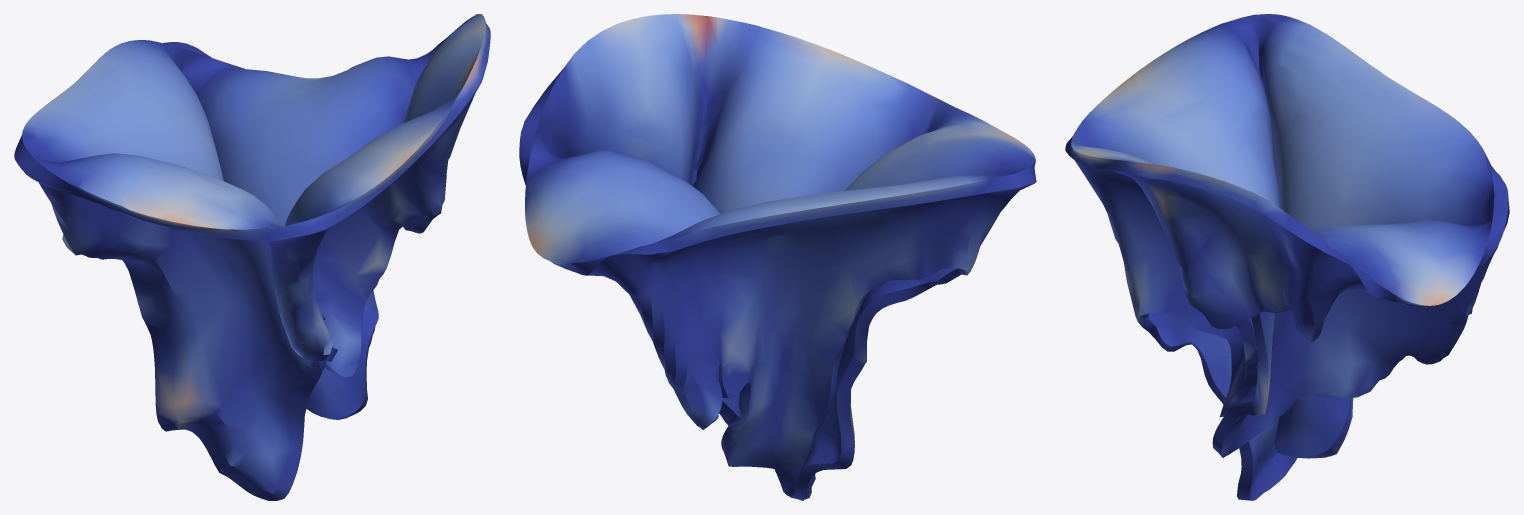
3 views of the same model, side by side, from view 1: azimuth 30°, elevation 25°; view 2: azimuth 150°, elevation 25°; view 3: azimuth 270°, elevation 25° (orthographic). The views are drawn at different scales.
Visible parts, largest first — view 1: OCS14_maxS_11; view 2: OCS14_maxS_11; view 3: OCS14_maxS_11.
Part boxes in pixels (box(x1,y1,x2,y2)): OCS14_maxS_11: box(14, 14, 490, 500); OCS14_maxS_11: box(519, 14, 1036, 500); OCS14_maxS_11: box(1065, 14, 1509, 500).
Size of the model in its own units: 1.43 by 1.24 by 1.22.
